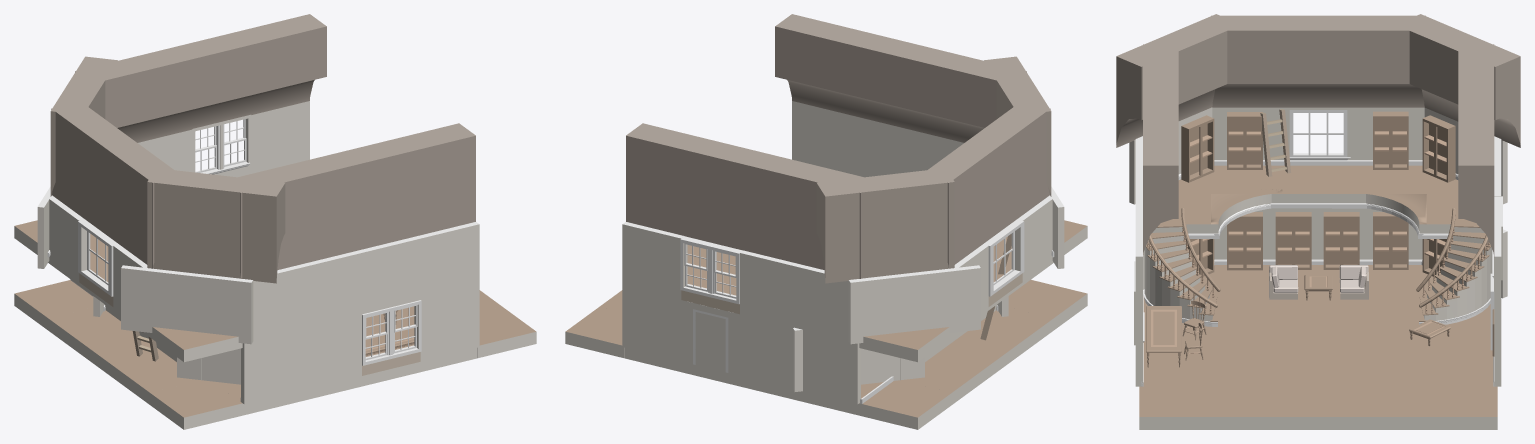
The model's file is library-base-merged.glb.
3 views of the same model, side by side, from view 1: azimuth 30°, elevation 25°; view 2: azimuth 150°, elevation 25°; view 3: azimuth 270°, elevation 25° (orthographic). The views are drawn at different scales.
Parts seen in each view (by area): view 1: object1.018; view 2: object1.018; view 3: object1.018.
Part boxes in pixels (x1,y1,x2,y2): object1.018: [14, 14, 536, 429]; object1.018: [565, 14, 1087, 429]; object1.018: [1116, 14, 1520, 429].
Size of the model in its own units: 12.68 by 7.2 by 11.28.
